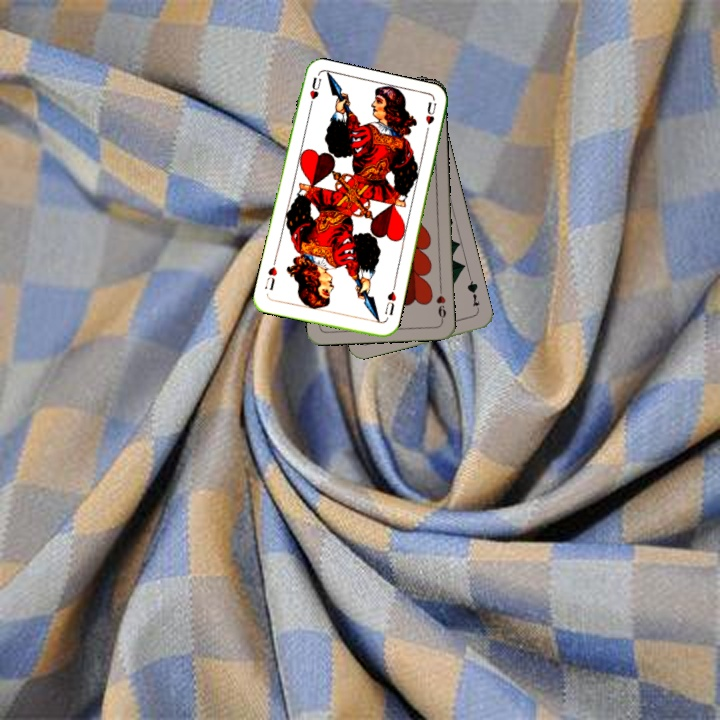G7: (463, 274, 482, 314)
H9: (432, 283, 449, 323)
HU: (305, 73, 324, 113), (380, 287, 399, 318)
